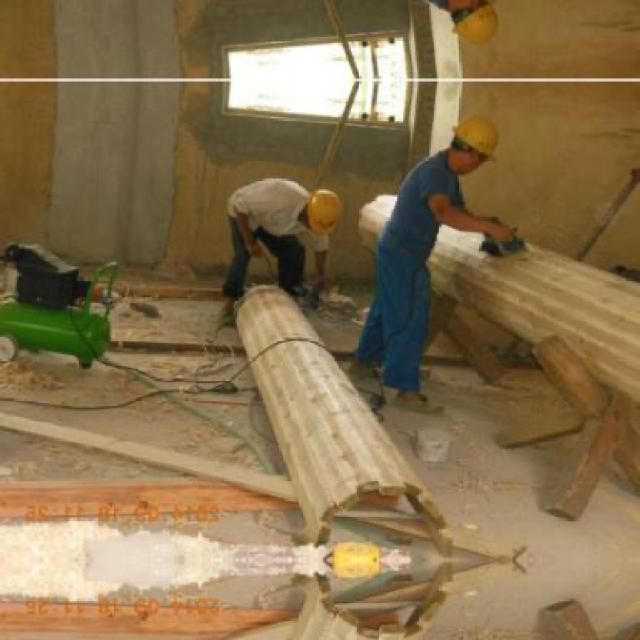con casco: (249, 178, 353, 258), (428, 104, 514, 190)
